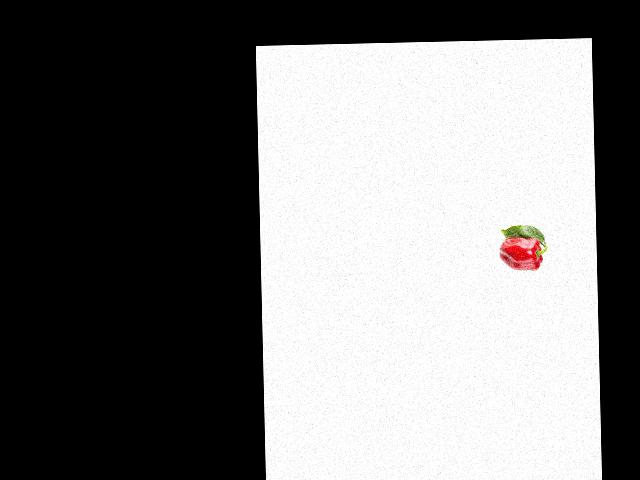bell_pepper: (497, 234, 547, 275)
